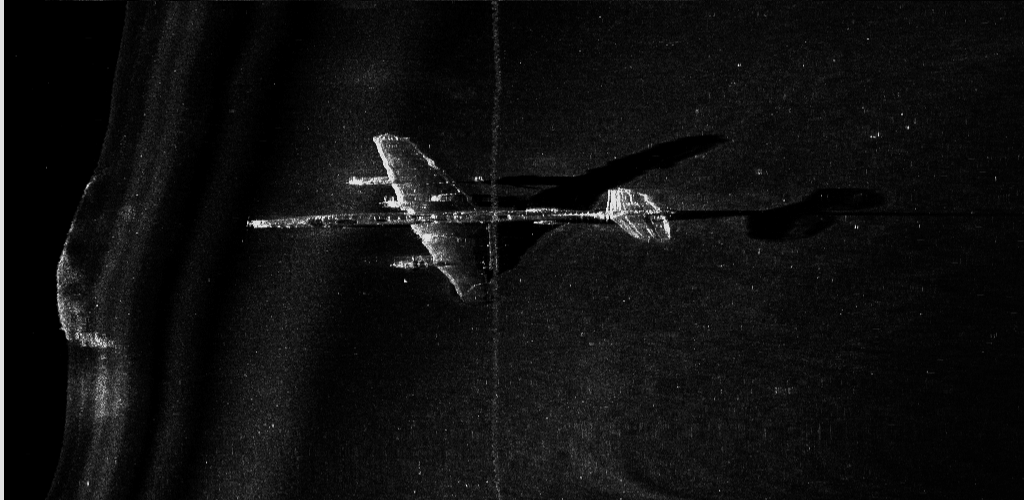plane: (243, 131, 673, 290)
